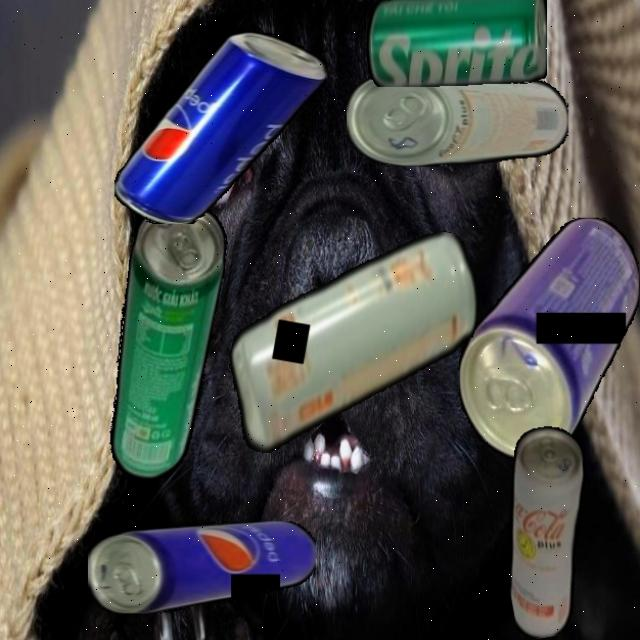debris: (216, 200, 490, 484), (458, 217, 639, 459), (93, 196, 234, 487), (115, 31, 327, 224), (484, 421, 614, 640), (88, 520, 316, 614), (346, 70, 568, 166), (366, 0, 547, 87)
